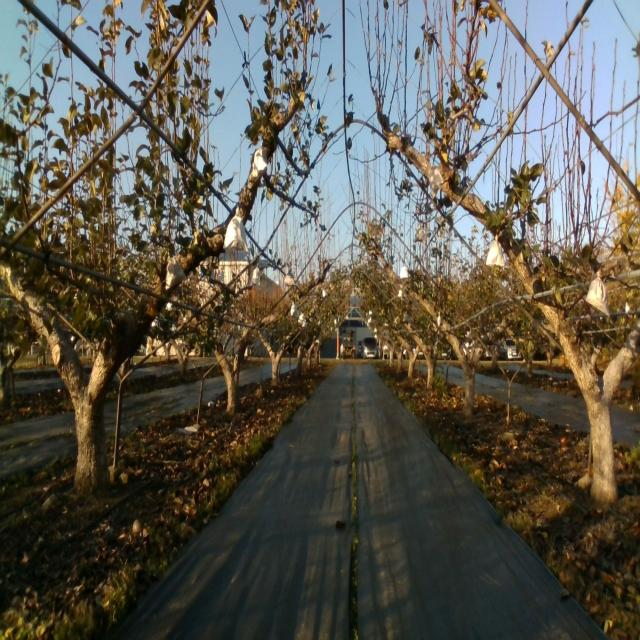pearbags: (585, 271, 610, 318), (223, 208, 248, 252), (165, 252, 186, 292), (485, 234, 506, 266), (253, 144, 268, 179), (429, 166, 443, 200)
